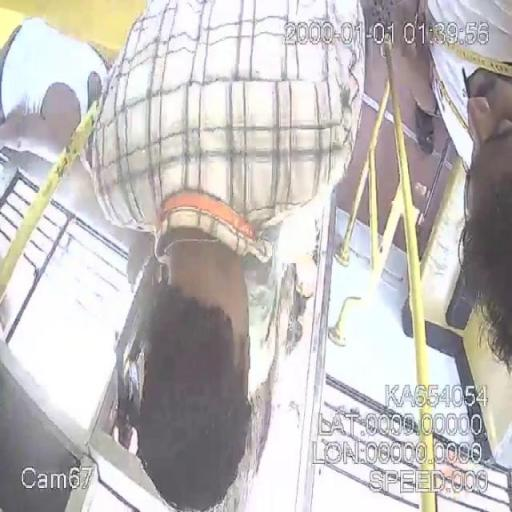persona: (79, 1, 367, 510), (421, 0, 511, 470)
